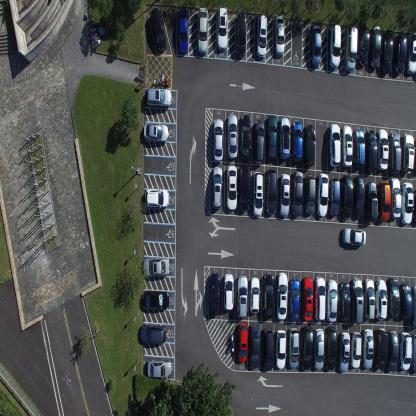car: (150, 6, 167, 52), (350, 277, 364, 324), (344, 25, 358, 72), (276, 271, 289, 321), (380, 28, 394, 74), (300, 324, 314, 369), (374, 328, 389, 370), (291, 169, 304, 217), (143, 121, 170, 144), (341, 172, 354, 219), (239, 163, 251, 213), (146, 86, 172, 109), (265, 168, 278, 214), (394, 32, 408, 74), (197, 6, 209, 55), (278, 172, 291, 217), (316, 172, 329, 217), (357, 22, 370, 67), (314, 274, 326, 322), (365, 179, 378, 223), (239, 114, 251, 161), (262, 273, 274, 320), (142, 290, 170, 310), (142, 257, 170, 277), (211, 164, 223, 210), (212, 117, 224, 163), (144, 187, 170, 208), (301, 276, 313, 321), (329, 23, 341, 68), (216, 6, 228, 51), (253, 120, 265, 164), (377, 127, 389, 171), (248, 324, 260, 368), (262, 327, 274, 371), (325, 326, 337, 370), (326, 278, 338, 322), (310, 23, 322, 67), (256, 14, 268, 58), (236, 10, 247, 58), (140, 324, 166, 344), (353, 128, 366, 168), (378, 181, 391, 221), (252, 170, 263, 217), (266, 114, 277, 161), (329, 123, 341, 166), (341, 124, 353, 167), (389, 131, 401, 174), (226, 164, 237, 210), (304, 124, 316, 166), (402, 132, 414, 174), (401, 182, 413, 224), (342, 226, 366, 247), (375, 279, 387, 321), (227, 114, 238, 159), (354, 174, 365, 219), (146, 359, 172, 378), (399, 331, 412, 369), (304, 174, 316, 215), (389, 177, 401, 218), (338, 331, 350, 372), (363, 278, 375, 319), (388, 277, 400, 318), (279, 116, 290, 160), (237, 274, 248, 318), (289, 278, 300, 322), (370, 24, 381, 68), (328, 176, 340, 216), (362, 329, 374, 369), (338, 281, 350, 321), (178, 7, 188, 54), (366, 129, 377, 171), (288, 326, 299, 368), (274, 14, 285, 56), (350, 330, 362, 368), (275, 328, 286, 369), (209, 272, 219, 316), (406, 31, 416, 75), (400, 283, 412, 319), (314, 327, 324, 370), (224, 273, 235, 311), (292, 121, 302, 162), (238, 322, 248, 362), (250, 277, 260, 316), (388, 330, 398, 369), (411, 334, 416, 372), (412, 286, 416, 328), (413, 188, 416, 227)
